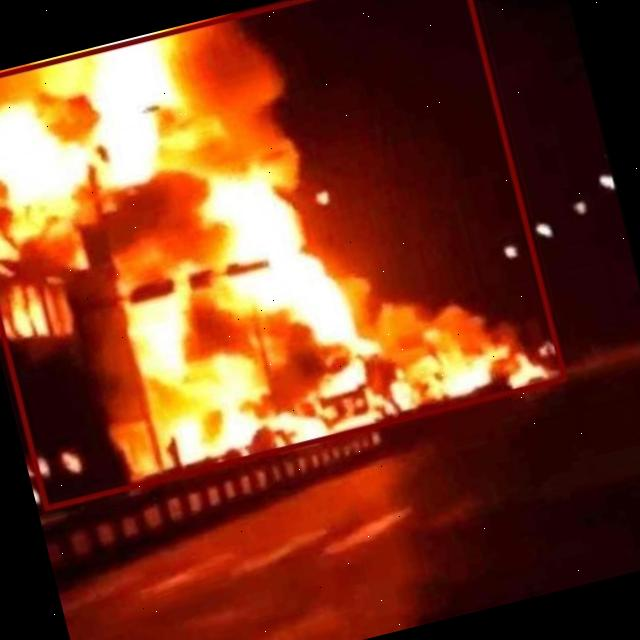fire: (0, 0, 565, 509)
